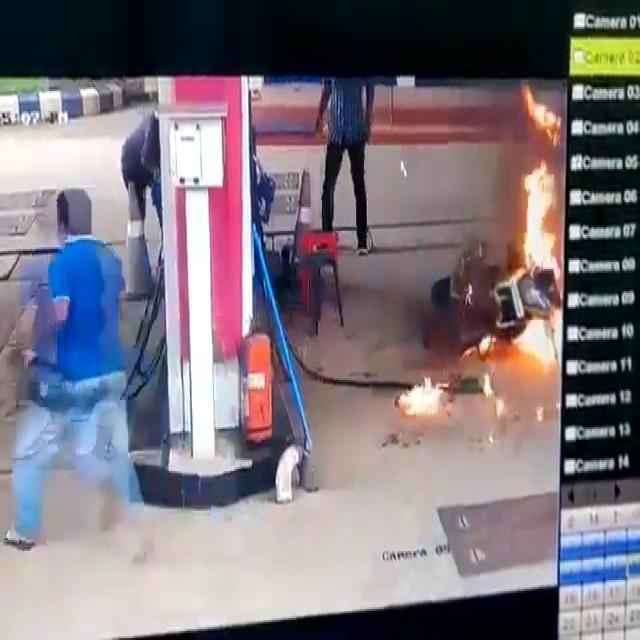Fire: (504, 90, 566, 279), (396, 369, 449, 420), (519, 312, 558, 376)
